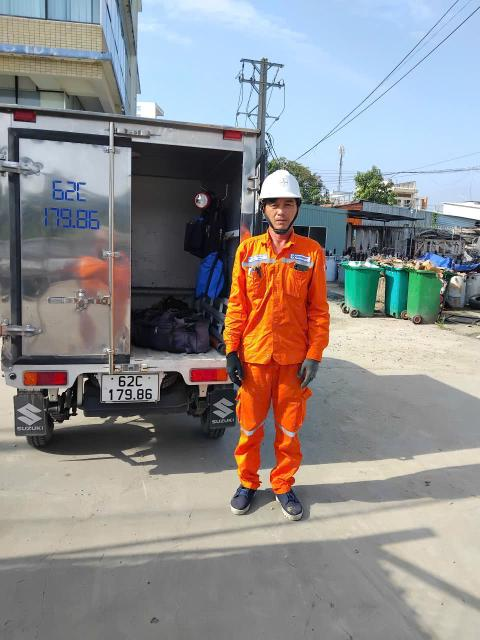gloves: (293, 339, 331, 394), (218, 338, 250, 400)
helmet: (256, 159, 306, 213)
shoes: (269, 473, 321, 528), (214, 467, 265, 517)
